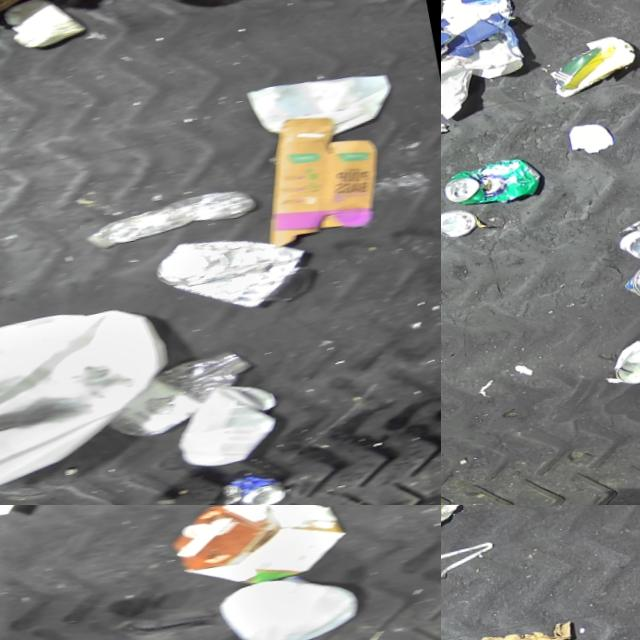can: (151, 217, 320, 326), (441, 150, 544, 213), (216, 459, 299, 505), (605, 329, 640, 388), (614, 192, 640, 266), (441, 205, 479, 242), (621, 246, 640, 309)
milk_jug: (0, 283, 185, 505), (214, 560, 366, 640), (119, 0, 310, 15)
plastic_bottle: (81, 342, 265, 451), (76, 180, 261, 256)
